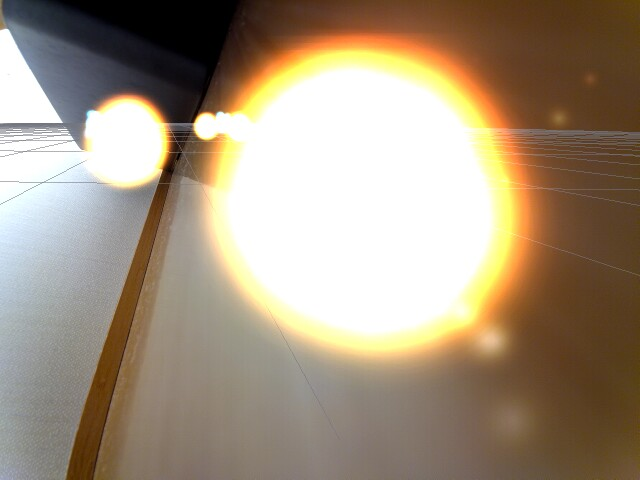firebig: (245, 36, 525, 360)
